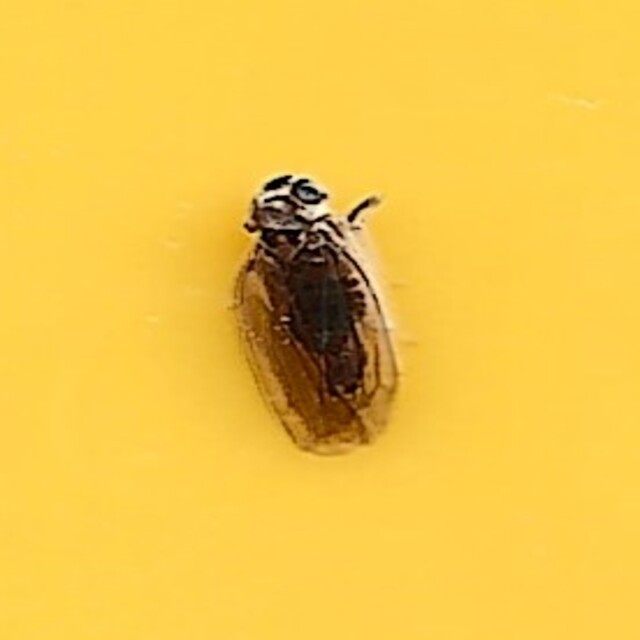Hemiptera: (232, 179, 408, 461)
